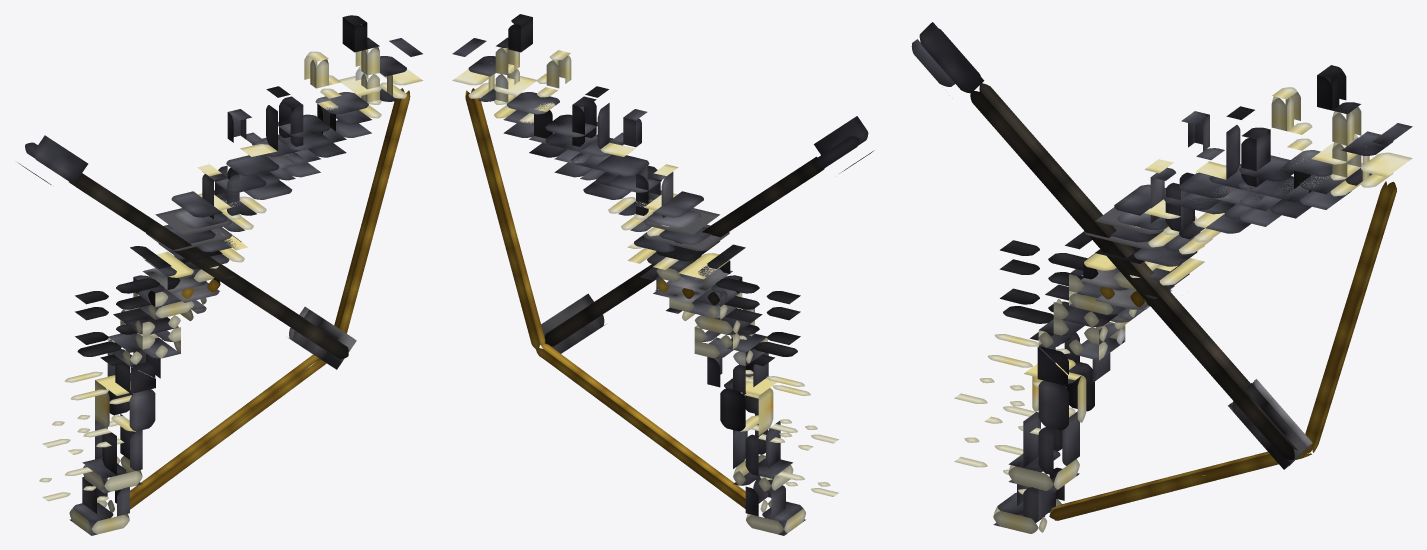
The model's file is wingbow_pulling_2.obj.
The picture shows the model from 3 angles, left to right: view 1: azimuth 30°, elevation 25°; view 2: azimuth 150°, elevation 25°; view 3: azimuth 330°, elevation 25°; orthographic projection. The views are drawn at different scales.
Visible parts, largest first — view 1: lit, fire; view 2: lit, fire; view 3: lit, fire.
Part boxes in pixels (<box>): lit: <box>17,15,423,535</box>; fire: <box>288,306,356,369</box>; lit: <box>452,14,874,535</box>; fire: <box>541,293,605,353</box>; lit: <box>911,22,1412,533</box>; fire: <box>1228,379,1312,469</box>.
Bounding box in the file's own units: 0.9951 × 1.04 × 0.125.
